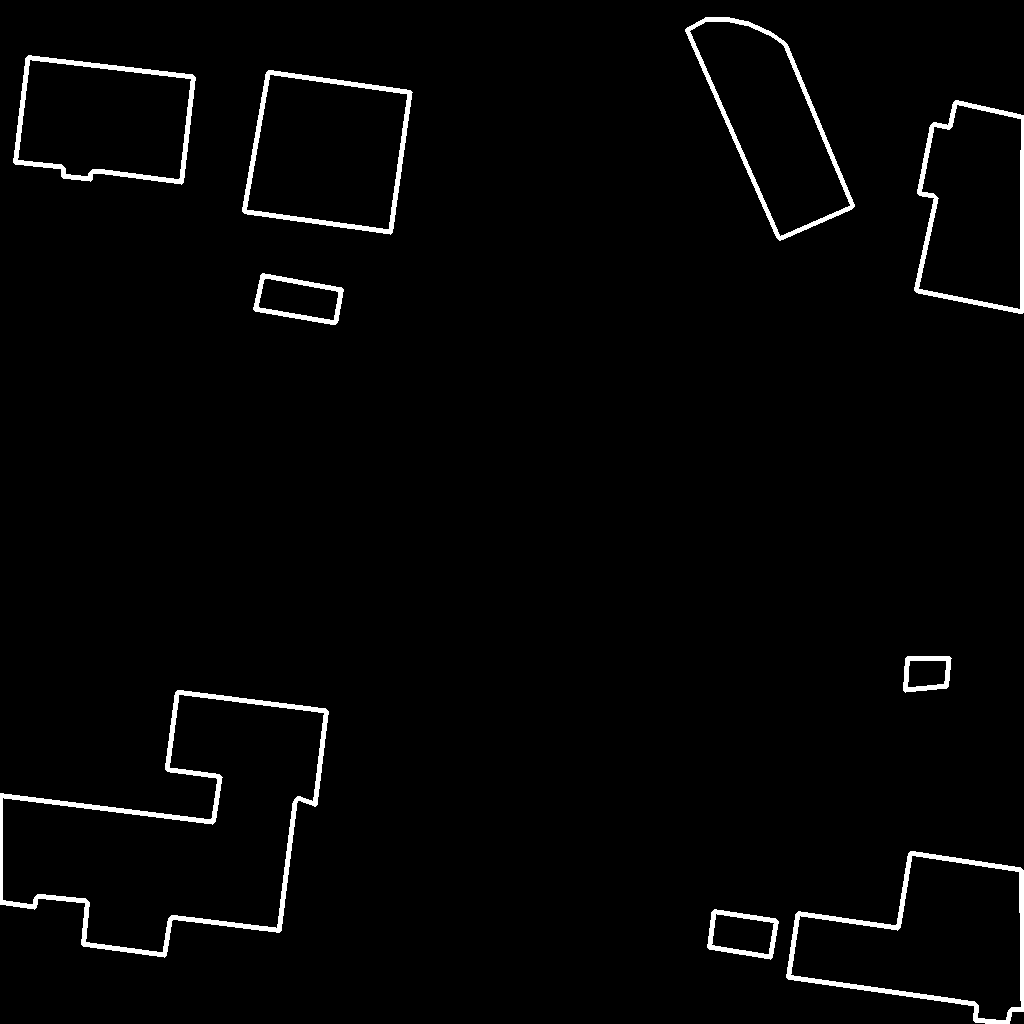building: (0, 692, 328, 956), (788, 853, 1024, 1024), (687, 19, 854, 240), (244, 72, 411, 233), (916, 102, 1024, 313), (15, 57, 195, 183), (255, 275, 343, 324), (709, 911, 778, 958), (905, 658, 950, 691)
